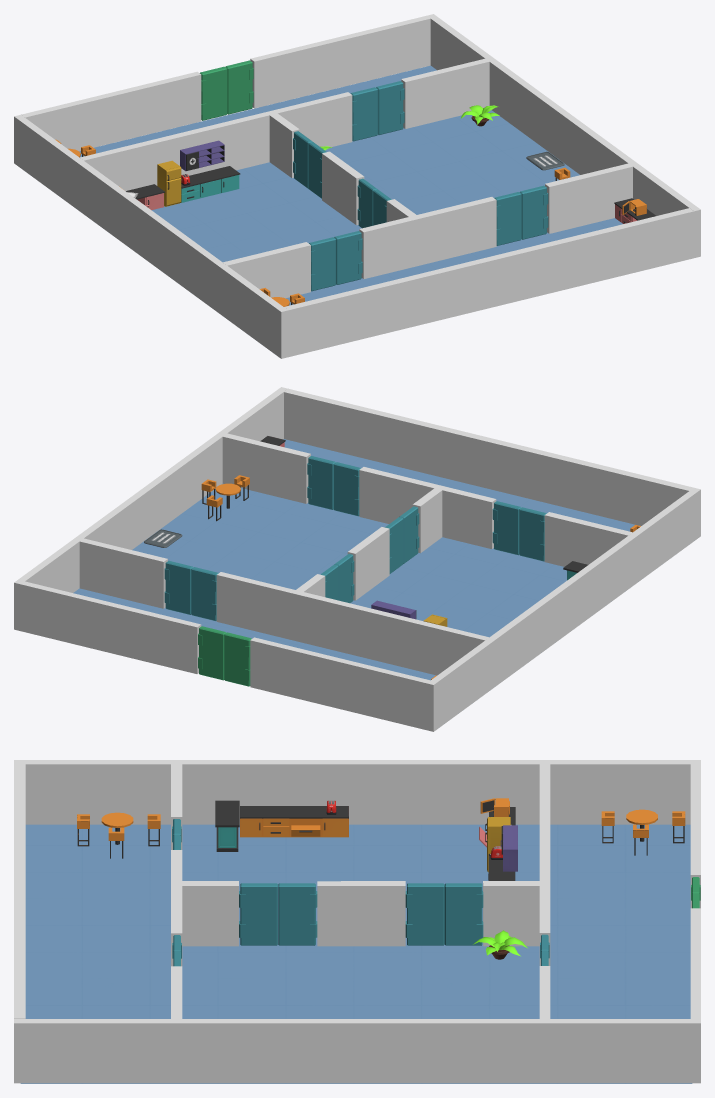
Rendered from maps_05.fbx.
The picture shows the model from 3 angles, top to bottom: view 1: azimuth 30°, elevation 25°; view 2: azimuth 150°, elevation 25°; view 3: azimuth 270°, elevation 25°; orthographic projection. The views are drawn at different scales.
Parts seen in each view (by area): view 1: polySurface147, polySurface139, polySurface136, polySurface137, polySurface143, polySurface145, polySurface146, polySurface141, polySurface6 (×6), polySurface2 (×5), polySurface144, polySurface140 (+7 smaller); view 2: polySurface147, polySurface139, polySurface136, polySurface143, polySurface137, polySurface145, polySurface146, polySurface2 (×6), polySurface6 (×5), polySurface141, polySurface144, polySurface140 (+3 smaller); view 3: polySurface147, polySurface137, polySurface136, polySurface142, polySurface6 (×2), polySurface2 (×2), frames_geo10, polySurface99, frames_geo9, polySurface139, polySurface143, polySurface146 (+9 smaller).
Boxes of the visible parts, bbox=[...] form: polySurface147: bbox=[79, 65, 622, 305]; polySurface139: bbox=[284, 208, 693, 357]; polySurface136: bbox=[14, 114, 288, 358]; polySurface137: bbox=[427, 14, 700, 257]; polySurface143: bbox=[80, 92, 352, 190]; polySurface145: bbox=[250, 15, 430, 108]; polySurface146: bbox=[21, 71, 201, 151]; polySurface141: bbox=[359, 197, 496, 278]; polySurface6 (×6): bbox=[225, 60, 548, 284]; polySurface2 (×5): bbox=[200, 66, 521, 291]; polySurface144: bbox=[401, 58, 489, 128]; polySurface140: bbox=[545, 163, 632, 233]; polySurface147: bbox=[73, 439, 634, 680]; polySurface139: bbox=[284, 388, 693, 525]; polySurface136: bbox=[426, 487, 700, 731]; polySurface143: bbox=[216, 572, 488, 675]; polySurface137: bbox=[14, 387, 287, 631]; polySurface145: bbox=[21, 581, 201, 673]; polySurface146: bbox=[250, 637, 430, 729]; polySurface2 (×6): bbox=[191, 462, 546, 686]; polySurface6 (×5): bbox=[164, 456, 521, 680]; polySurface141: bbox=[359, 467, 496, 548]; polySurface144: bbox=[79, 538, 167, 608]; polySurface140: bbox=[222, 433, 310, 503]; polySurface147: bbox=[20, 824, 692, 1083]; polySurface137: bbox=[14, 1019, 700, 1083]; polySurface136: bbox=[14, 760, 700, 824]; polySurface142: bbox=[317, 881, 405, 946]; polySurface6 (×2): bbox=[278, 883, 483, 945]; polySurface2 (×2): bbox=[239, 883, 444, 945]; frames_geo10: bbox=[182, 881, 238, 946]; polySurface99: bbox=[240, 806, 348, 837]; frames_geo9: bbox=[483, 881, 539, 946]; polySurface139: bbox=[14, 764, 25, 1018]; polySurface143: bbox=[539, 764, 550, 965]; polySurface146: bbox=[690, 764, 700, 908].
Size of what is drawn, in the model's own units: 83.08 by 9.21 by 91.67.
10 materials, 10 textured.
